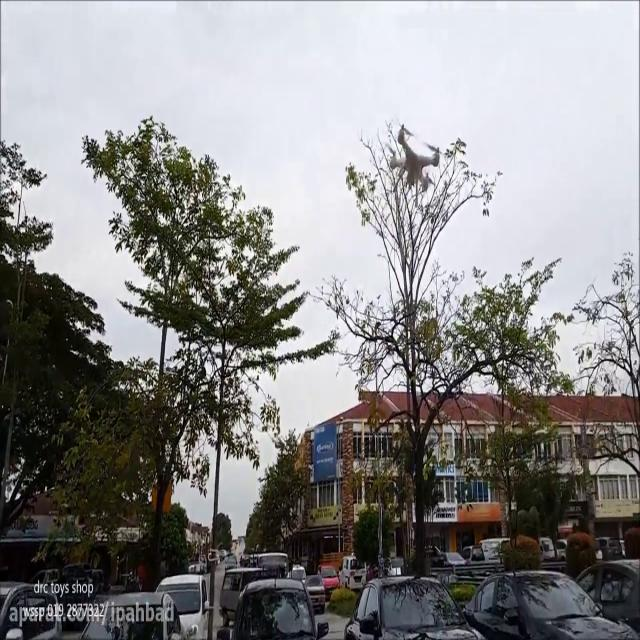drone: (383, 122, 443, 207)
